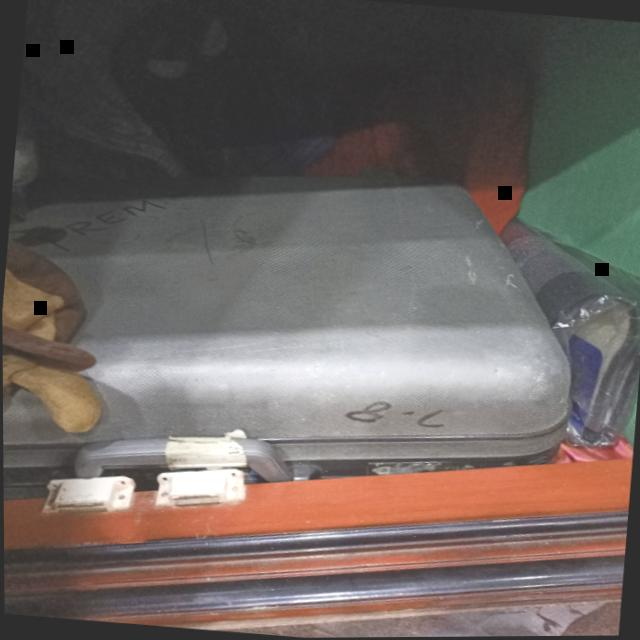luggage: (2, 186, 571, 503), (3, 439, 632, 626)
